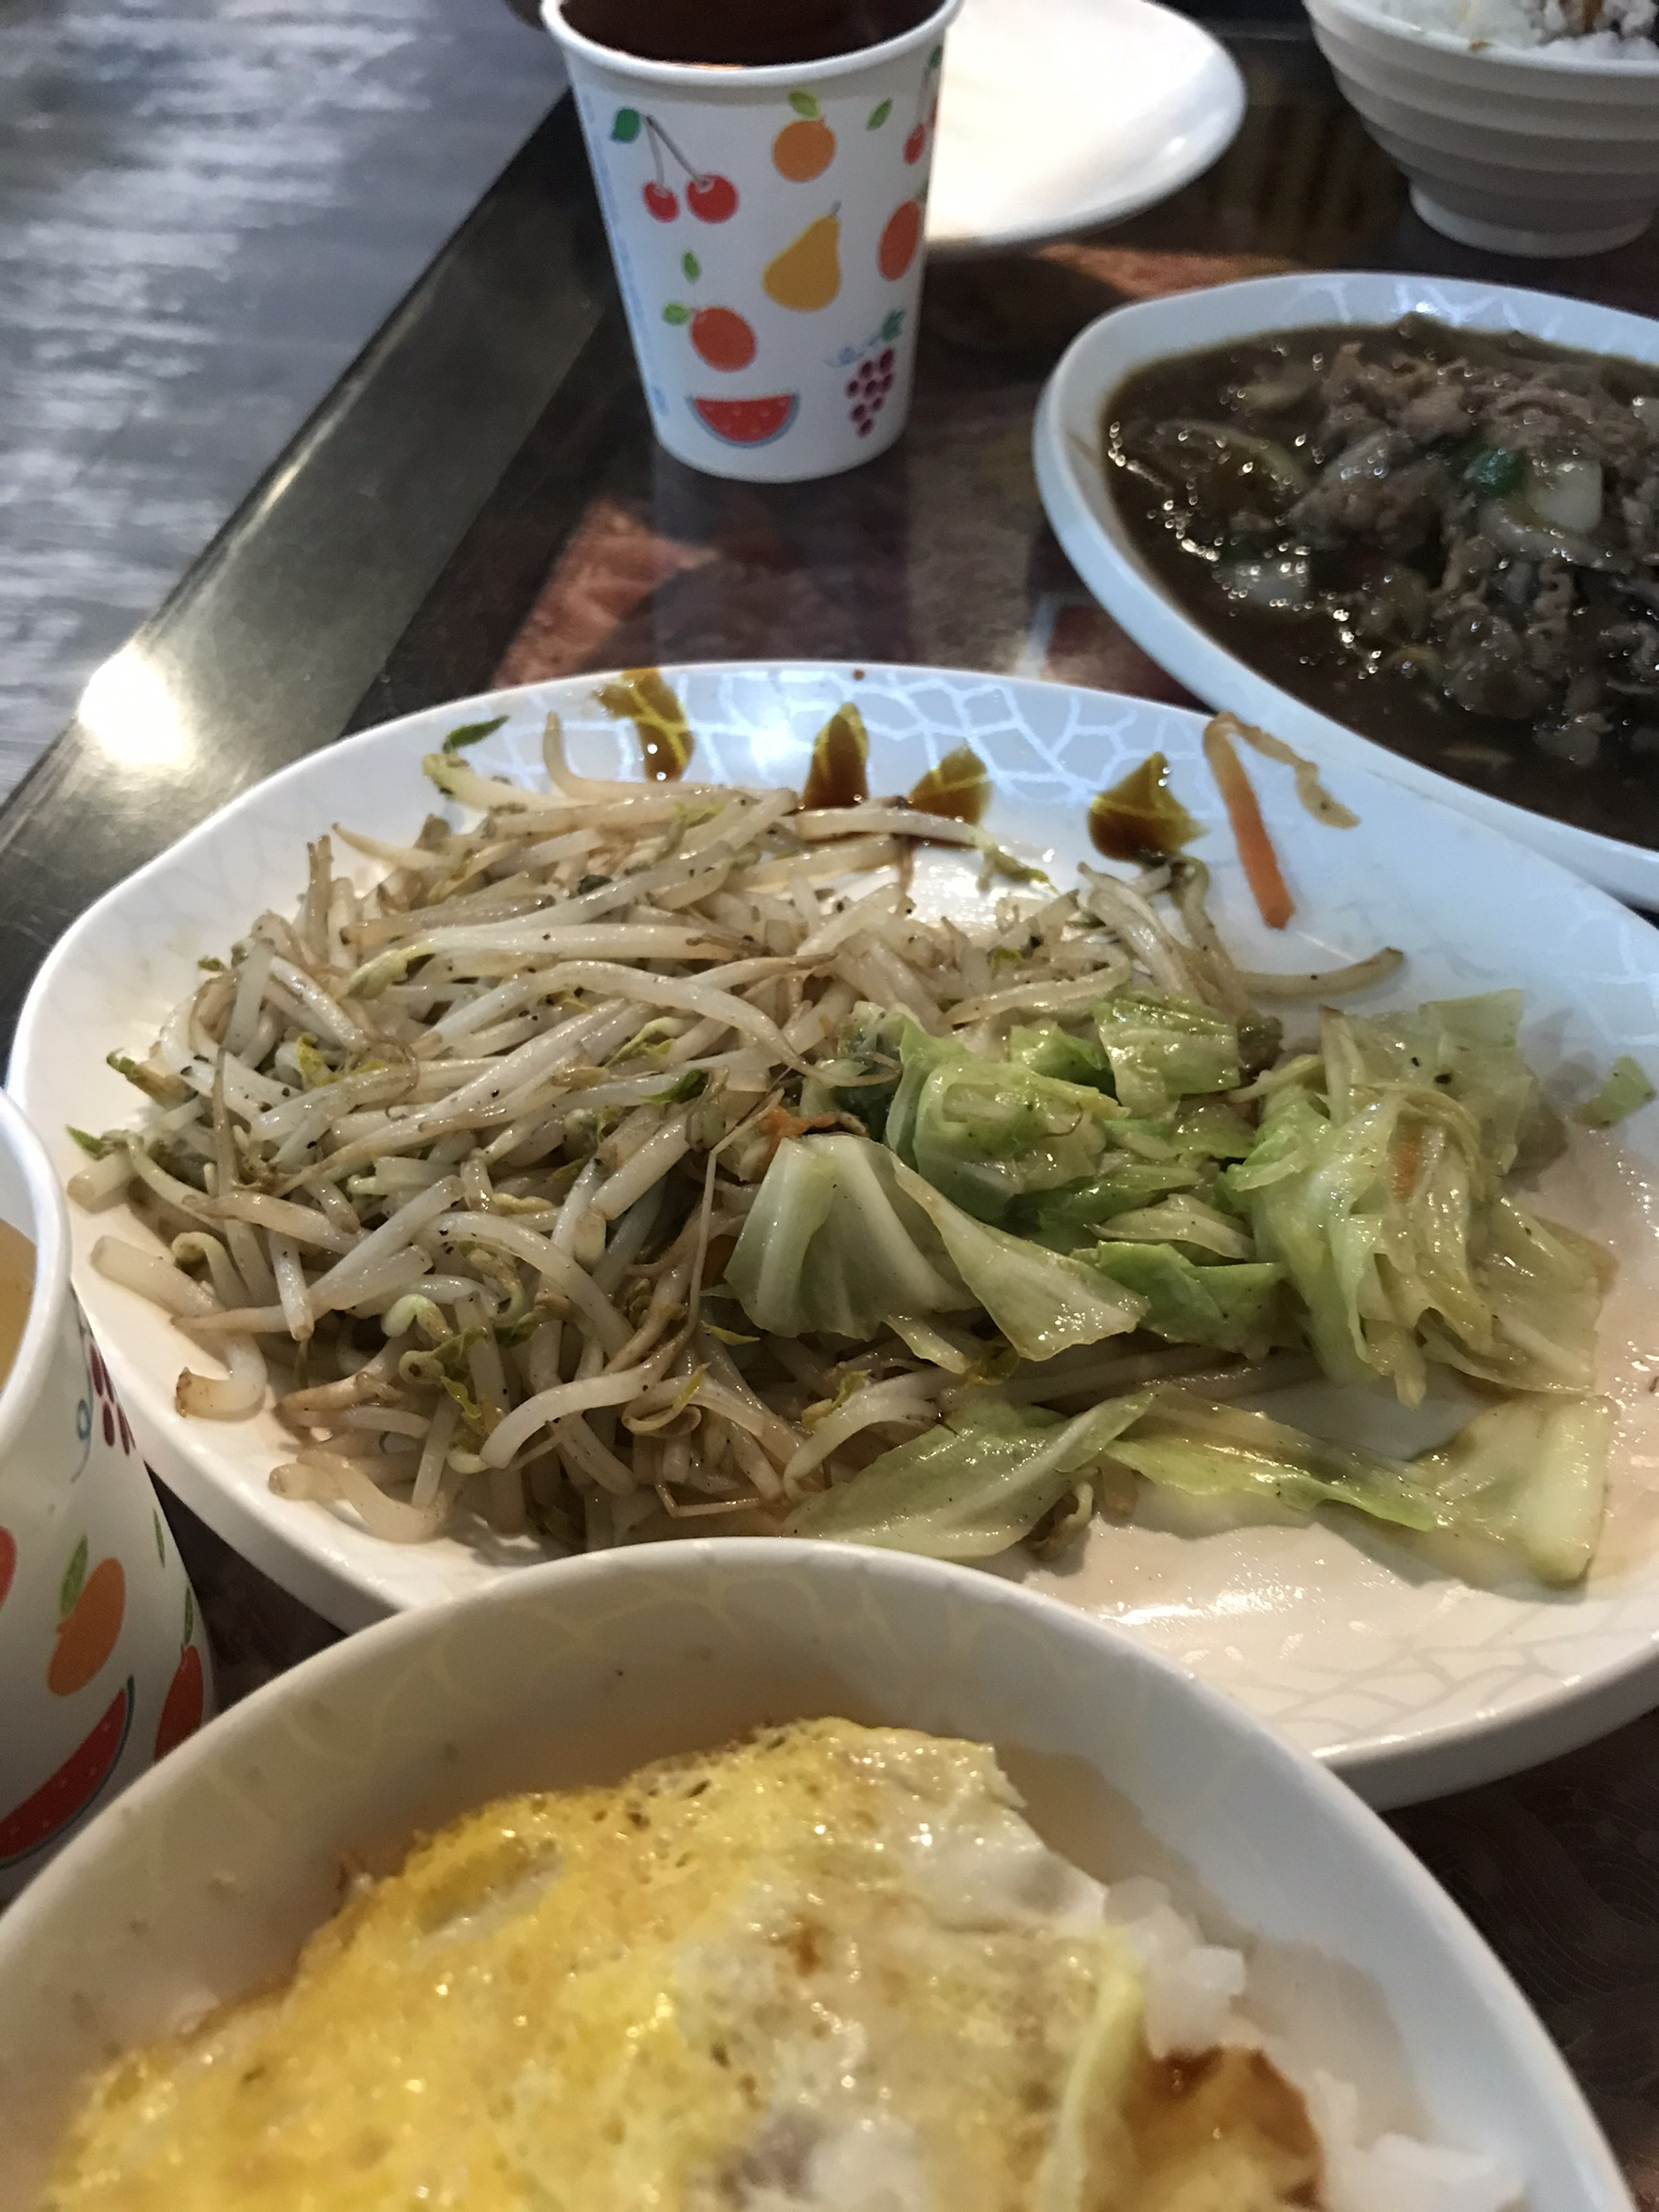chinese_cabbage: (866, 992, 1610, 1510)
mung_bean_sprouts: (166, 800, 781, 1504)
